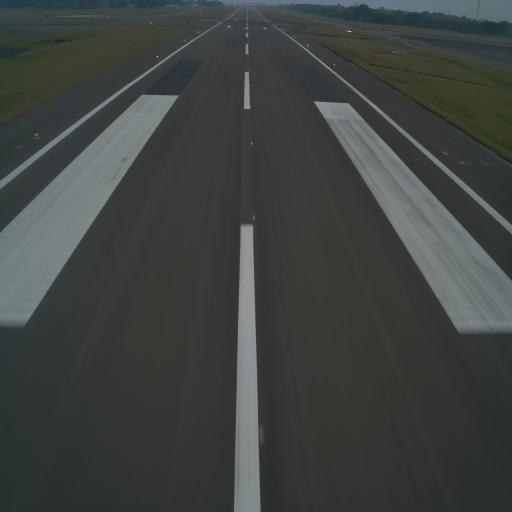off: (440, 148, 450, 160)
on: (251, 211, 257, 223), (33, 129, 39, 140), (155, 52, 161, 60), (332, 60, 336, 68), (250, 140, 254, 148), (248, 104, 253, 110), (248, 81, 251, 88), (248, 69, 251, 76), (248, 58, 250, 64), (183, 38, 186, 42), (307, 44, 310, 48), (248, 52, 250, 55)
